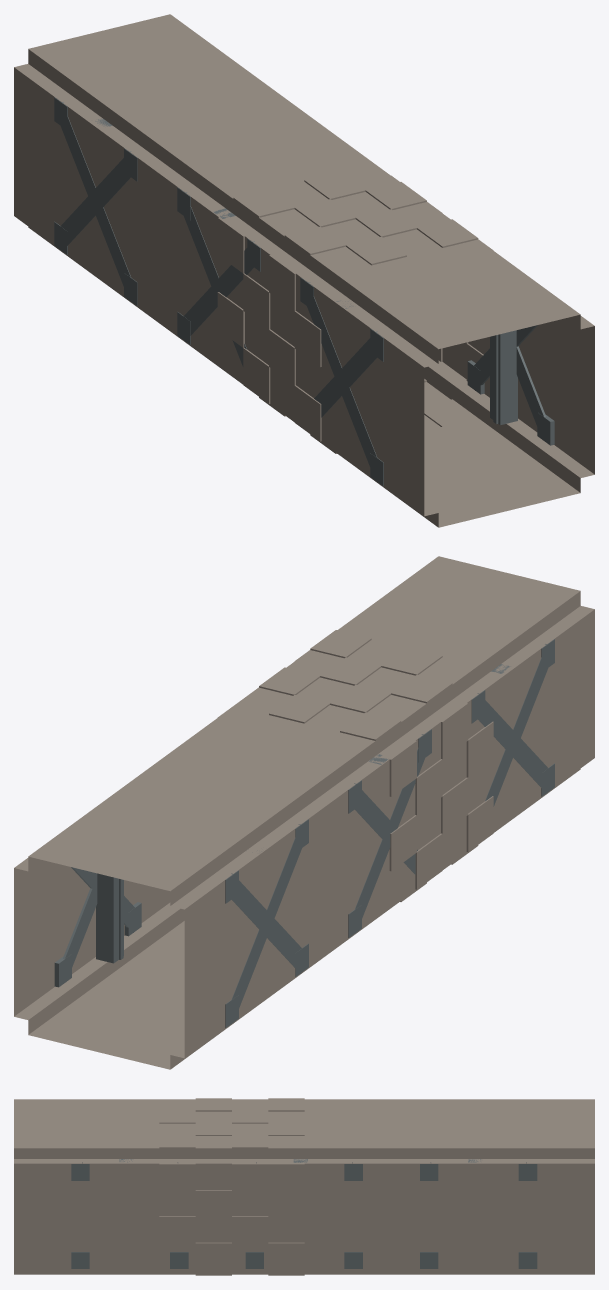
The model's file is Hallway.fbx.
3 views of the same model, one above another, from view 1: azimuth 30°, elevation 25°; view 2: azimuth 150°, elevation 25°; view 3: azimuth 270°, elevation 25° (orthographic). The views are drawn at different scales.
Parts seen in each view (by area): view 1: OuterShell, Cube.001, Cube.003, Cube.002, Pillar.006, Cube.006; view 2: OuterShell, Cube.001, Cube.003, Cube.002, Pillar.005, Cube.005; view 3: OuterShell, Cube.005, Cube.004, Cube.006.
Boxes of the visible parts, x1,y1,x2,y2 form: OuterShell: (14,14,594,527); Cube.001: (54,97,137,306); Cube.003: (300,277,383,486); Cube.002: (177,187,260,366); Pillar.006: (490,330,517,425); Cube.006: (467,325,554,445); OuterShell: (14,556,594,1069); Cube.001: (225,819,308,1027); Cube.003: (471,639,554,806); Cube.002: (348,729,431,937); Pillar.005: (96,873,123,963); Cube.005: (54,867,141,987); OuterShell: (14,1098,594,1275); Cube.005: (420,1162,537,1268); Cube.004: (245,1162,362,1268); Cube.006: (71,1162,188,1268).
Size of the model in its own units: 244 by 244 by 1000.
